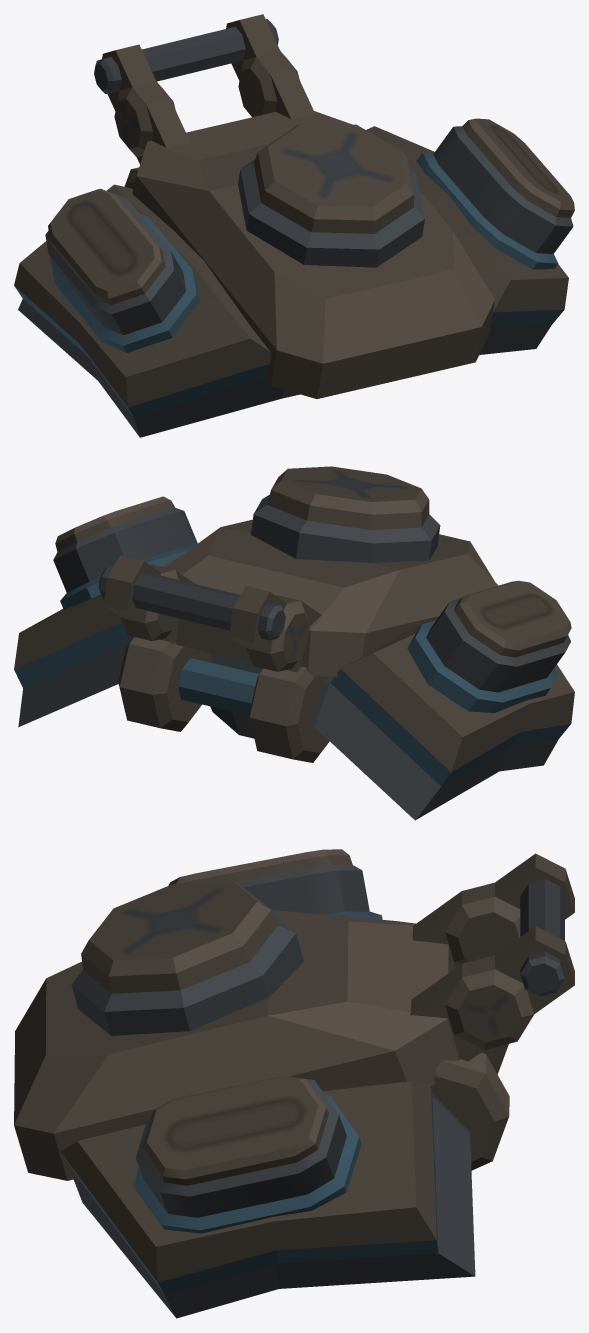
Rendered from SM_Mech_Hand_01_Armor_Wrist_03.fbx.
3 views of the same model, one above another, from view 1: azimuth 30°, elevation 25°; view 2: azimuth 150°, elevation 25°; view 3: azimuth 270°, elevation 25° (orthographic). The views are drawn at different scales.
Visible parts, largest first — view 1: SM_Mech_Hand_01_Armor_Wrist_03; view 2: SM_Mech_Hand_01_Armor_Wrist_03; view 3: SM_Mech_Hand_01_Armor_Wrist_03.
Boxes of the visible parts, x1,y1,x2,y2 form: SM_Mech_Hand_01_Armor_Wrist_03: (14,14,574,437); SM_Mech_Hand_01_Armor_Wrist_03: (14,466,574,820); SM_Mech_Hand_01_Armor_Wrist_03: (14,849,574,1318).
Bounding box in the file's own units: 61.18 × 31.95 × 53.03.
